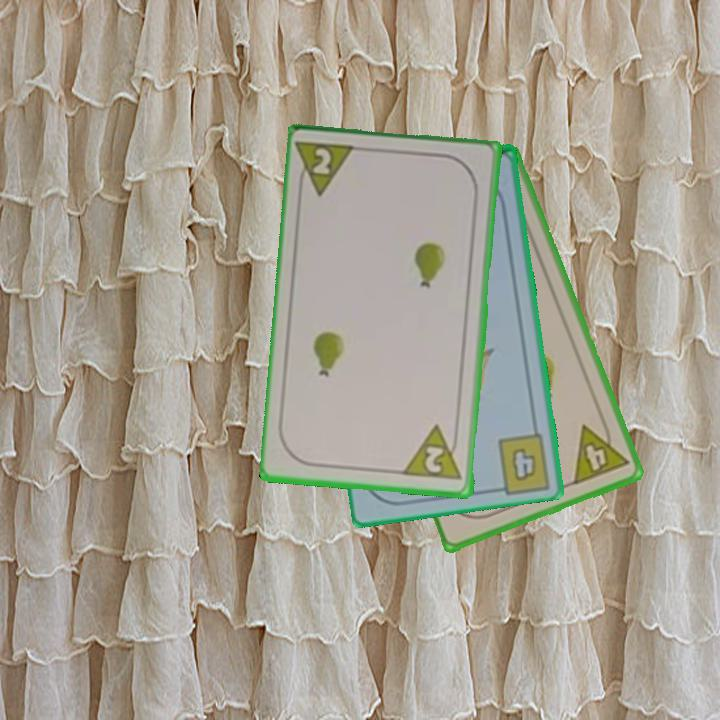2p: (295, 139, 361, 201), (401, 422, 466, 484)
4b: (508, 445, 540, 485)
4p: (569, 414, 632, 488)
